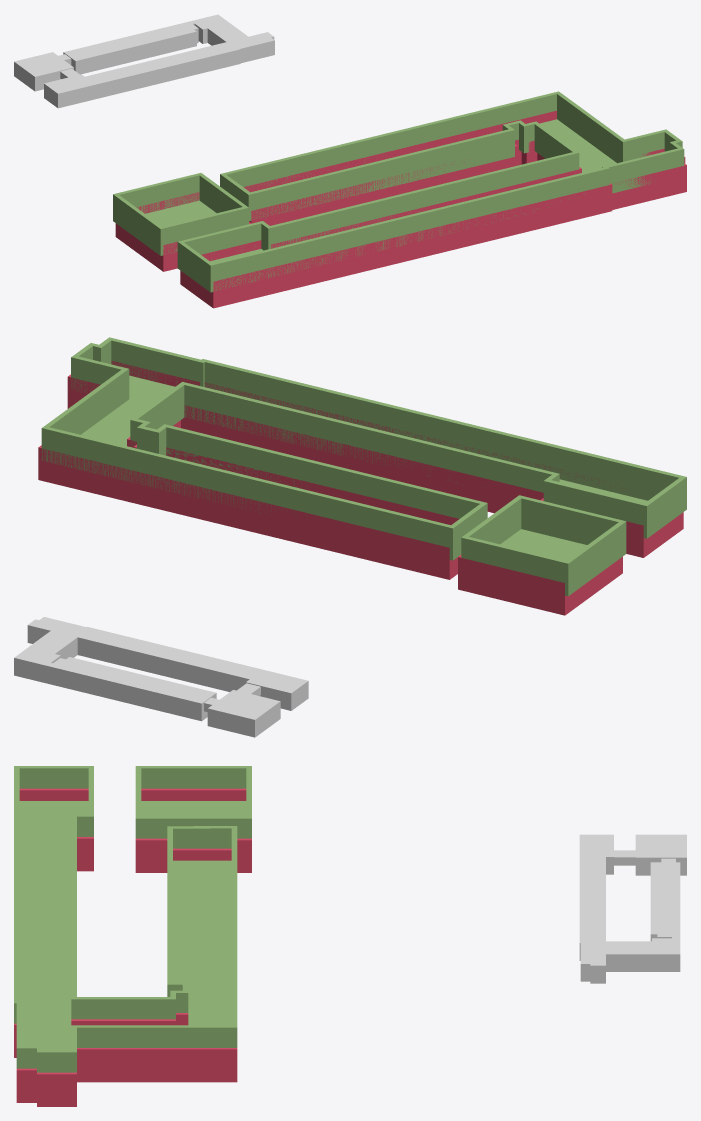
3 views of the same model, one above another, from view 1: azimuth 30°, elevation 25°; view 2: azimuth 150°, elevation 25°; view 3: azimuth 270°, elevation 25° (orthographic). The views are drawn at different scales.
Visible parts, largest first — view 1: F2, F1, Cube; view 2: F2, F1, Cube; view 3: F2, F1, Cube.
Boxes of the visible parts, x1,y1,x2,y2 form: F2: (113, 91, 684, 292); F1: (115, 110, 686, 308); Cube: (14, 14, 274, 108); F2: (41, 337, 686, 596); F1: (38, 360, 683, 615); Cube: (14, 617, 308, 737); F2: (14, 766, 251, 1072); F1: (14, 788, 251, 1106); Cube: (579, 834, 686, 983).
Size of the model in its own units: 10.41 by 0.8927 by 10.29.
